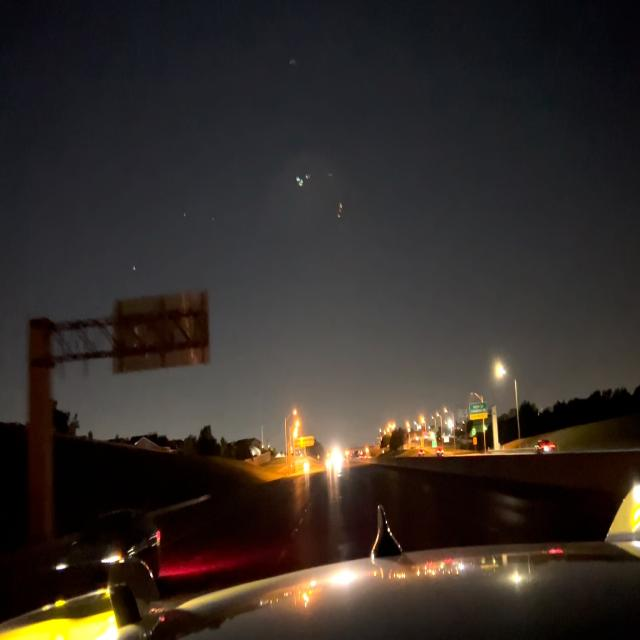back-of-sign: (114, 286, 211, 377)
